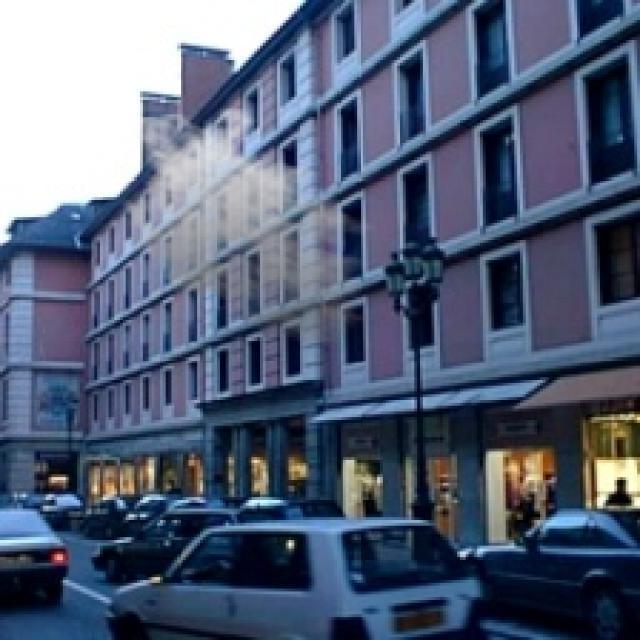Smoke: (117, 106, 389, 346)
